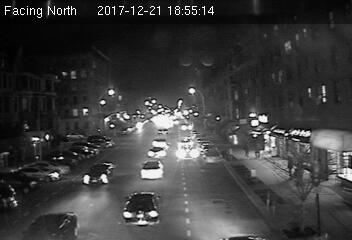car: (123, 190, 162, 226), (82, 163, 115, 184), (176, 143, 202, 160), (140, 161, 164, 179), (147, 147, 166, 160)
